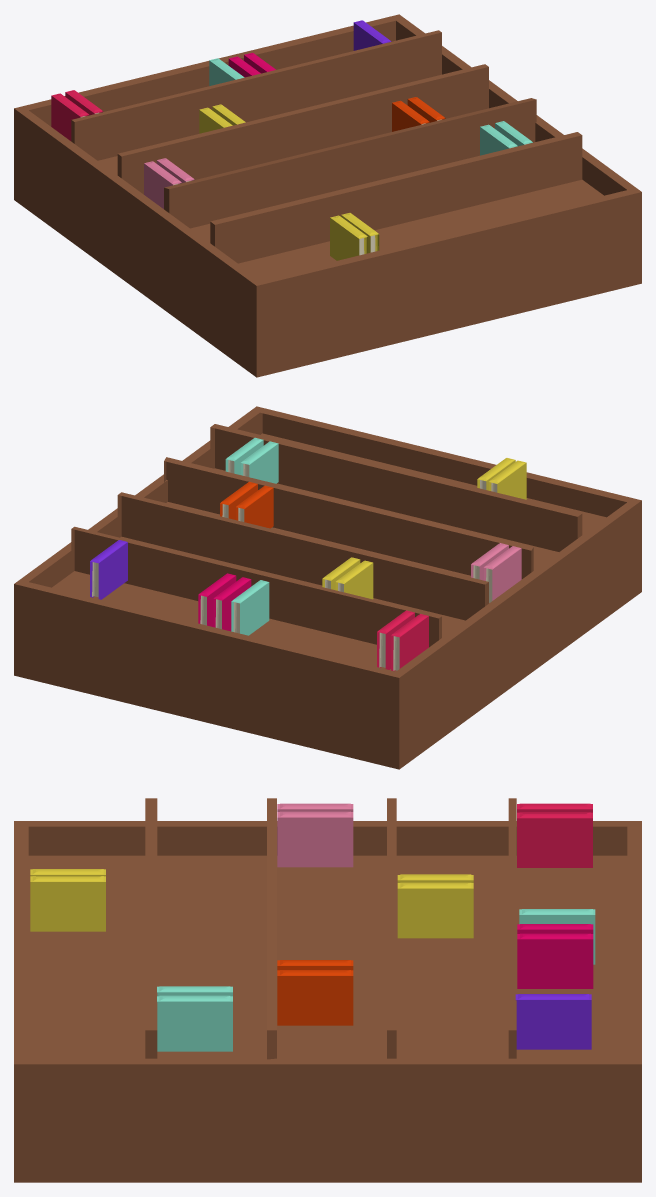
Rendered from biblioteca.fbx.
3 views of the same model, one above another, from view 1: azimuth 30°, elevation 25°; view 2: azimuth 150°, elevation 25°; view 3: azimuth 270°, elevation 25° (orthographic). The views are drawn at different scales.
Visible parts, largest first — view 1: Hojas.020; view 2: Hojas.020; view 3: Hojas.020.
Boxes of the visible parts, x1,y1,x2,y2 form: Hojas.020: (14, 14, 641, 377); Hojas.020: (14, 406, 641, 769); Hojas.020: (14, 798, 641, 1182).
Size of the model in its own units: 2.2 by 0.6257 by 2.4.
